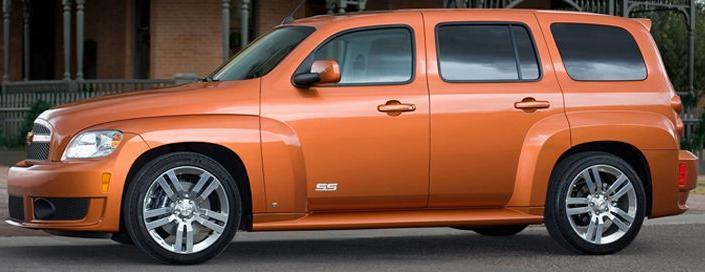front_view: (2, 98, 128, 236)
headlight: (54, 122, 126, 166)
side_glass: (288, 20, 654, 95)
